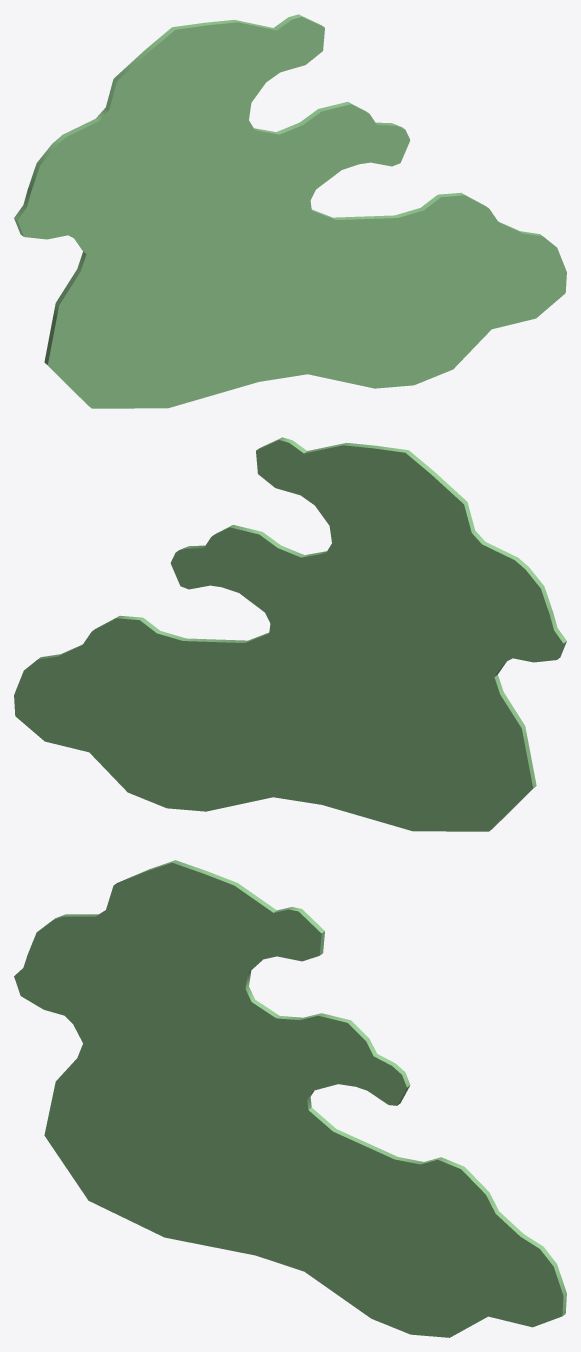
Rendered from cloud_02.fbx.
3 views of the same model, one above another, from view 1: azimuth 30°, elevation 25°; view 2: azimuth 150°, elevation 25°; view 3: azimuth 330°, elevation 25° (orthographic).
Parts seen in each view (by area): view 1: Plane002; view 2: Plane002; view 3: Plane002.
Boxes of the visible parts, x1=… form: Plane002: x1=14, y1=14, x2=566, y2=408; Plane002: x1=14, y1=437, x2=566, y2=831; Plane002: x1=14, y1=860, x2=566, y2=1337.
Size of the model in its own units: 2901 by 2088 by 31.69.
